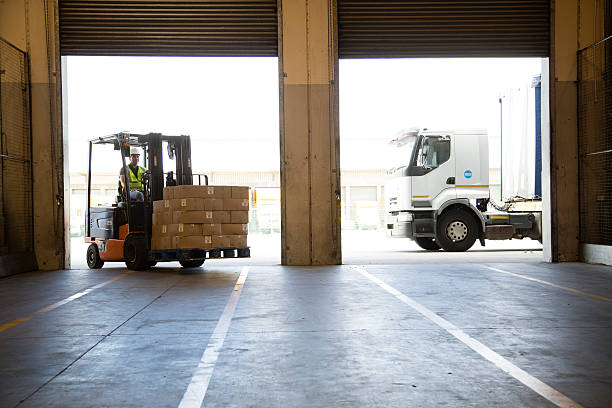unit_load: (132, 176, 263, 263)
